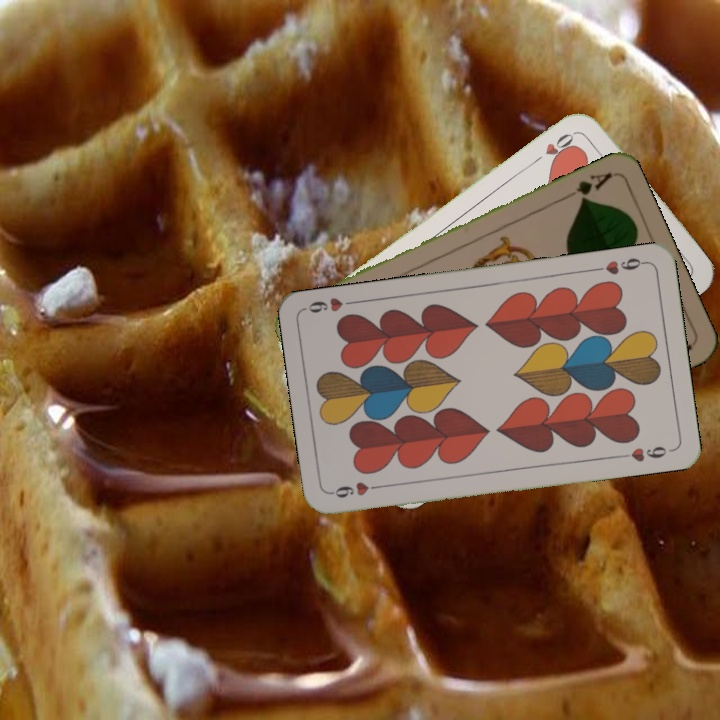GA: (560, 168, 615, 205)
H9: (590, 253, 649, 278), (328, 477, 387, 500)
HO: (529, 126, 582, 166)
